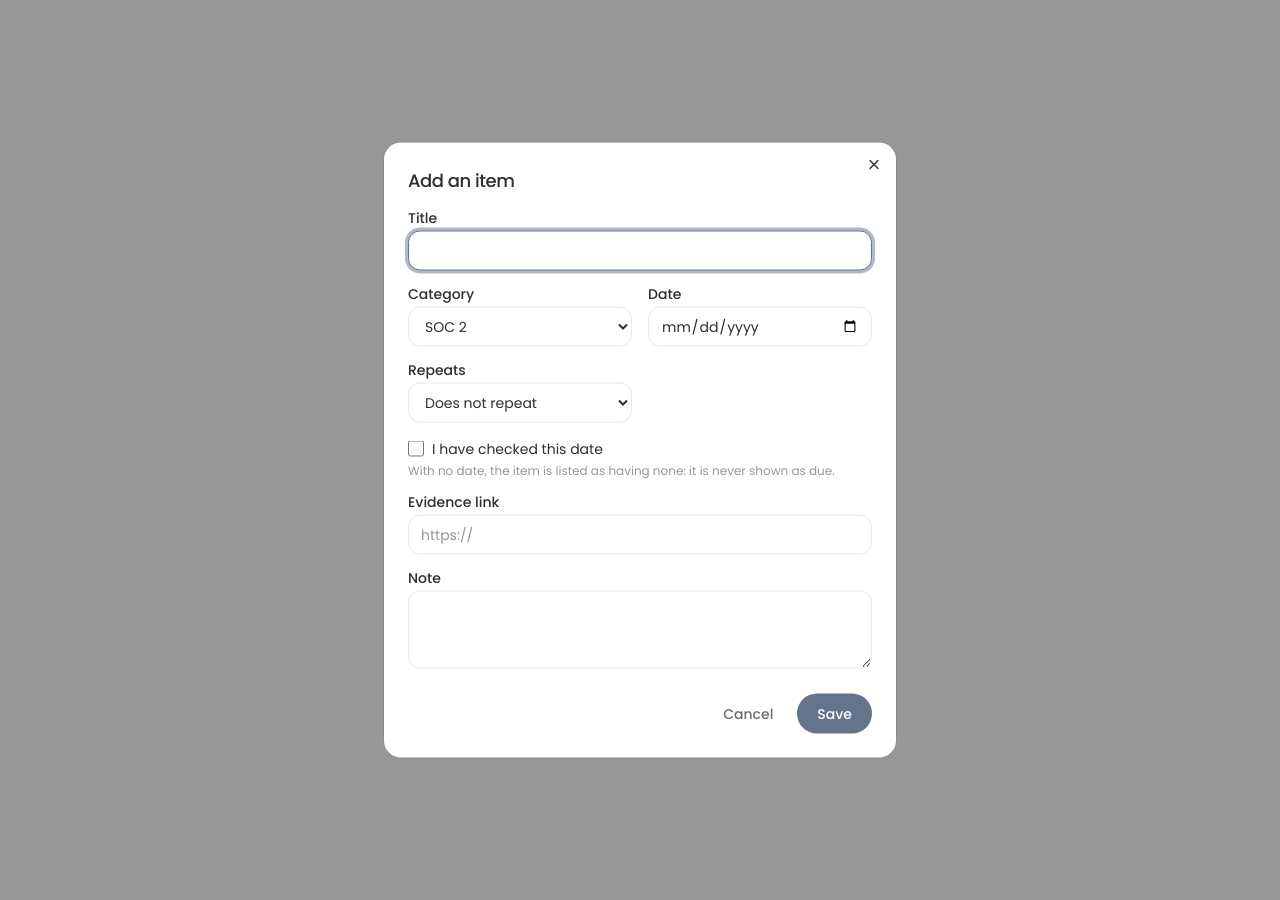
Test: ObligationEditor: adding › a link that is not https is refused before anything is sent
In the field labelled "Title": (640, 250) x1=408 y1=230 x2=872 y2=270, type "x"
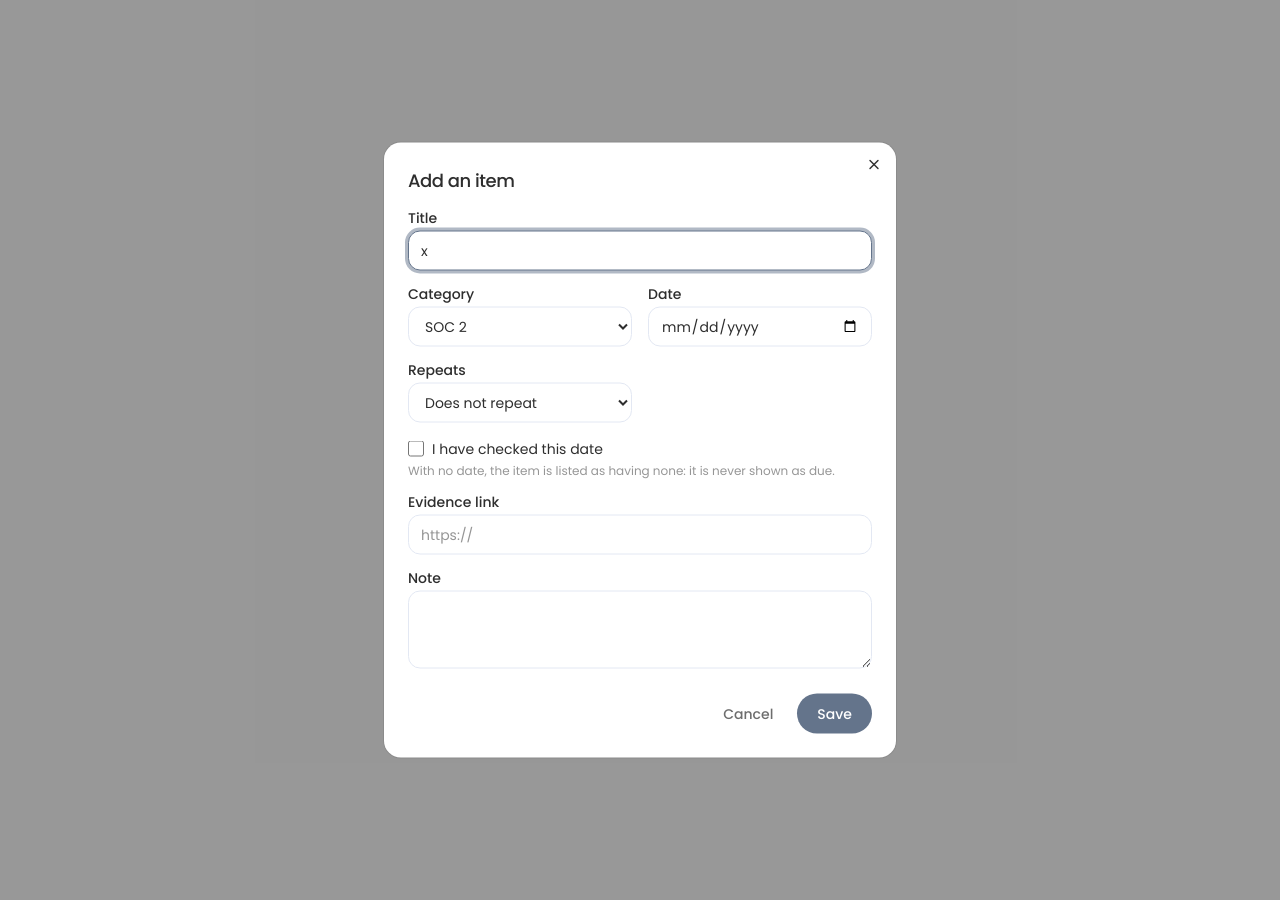
In the field labelled "Evidence link": (640, 534) x1=408 y1=514 x2=872 y2=554, type "javascript:alert(1)"
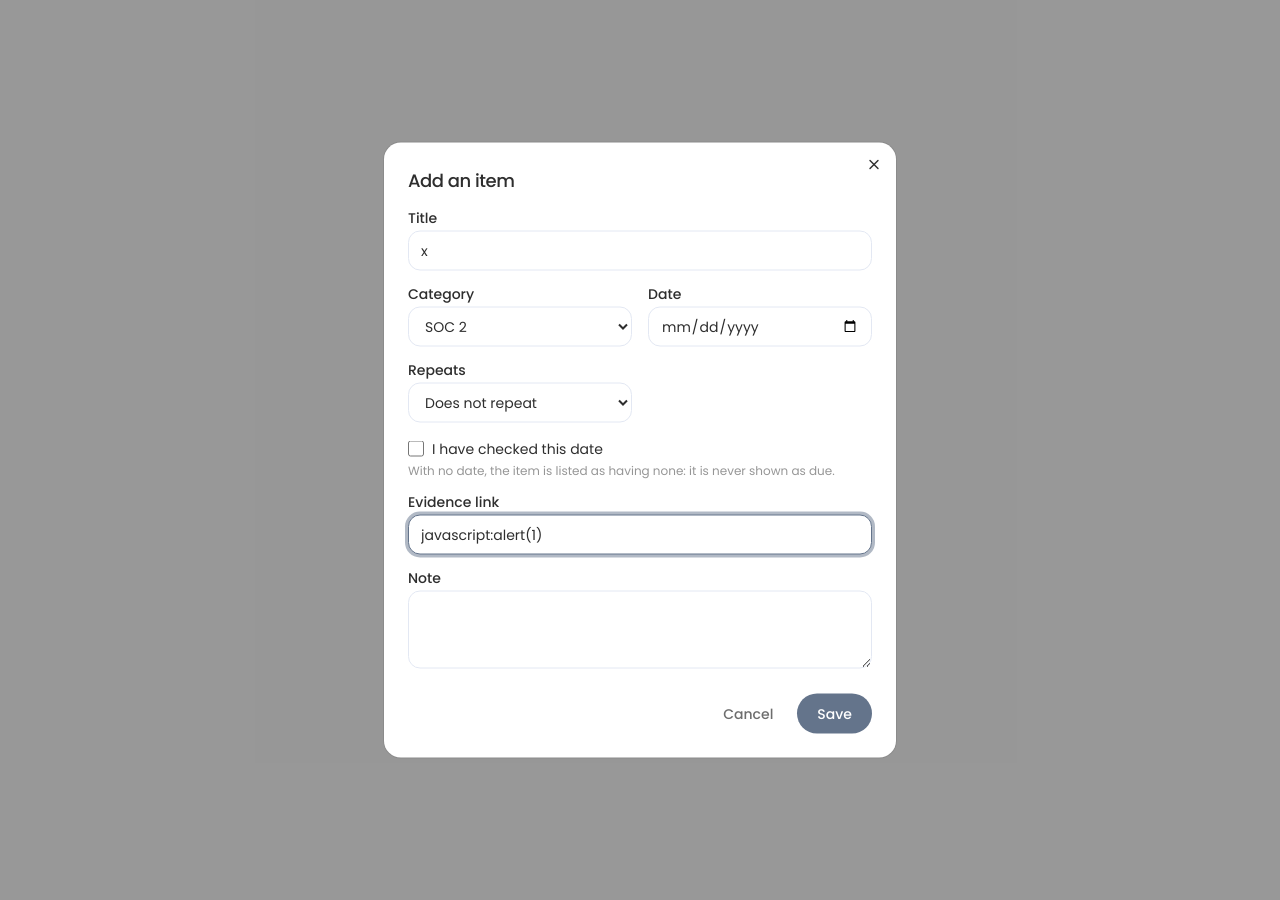
Click the button "Save": (835, 714) x1=797 y1=694 x2=872 y2=734
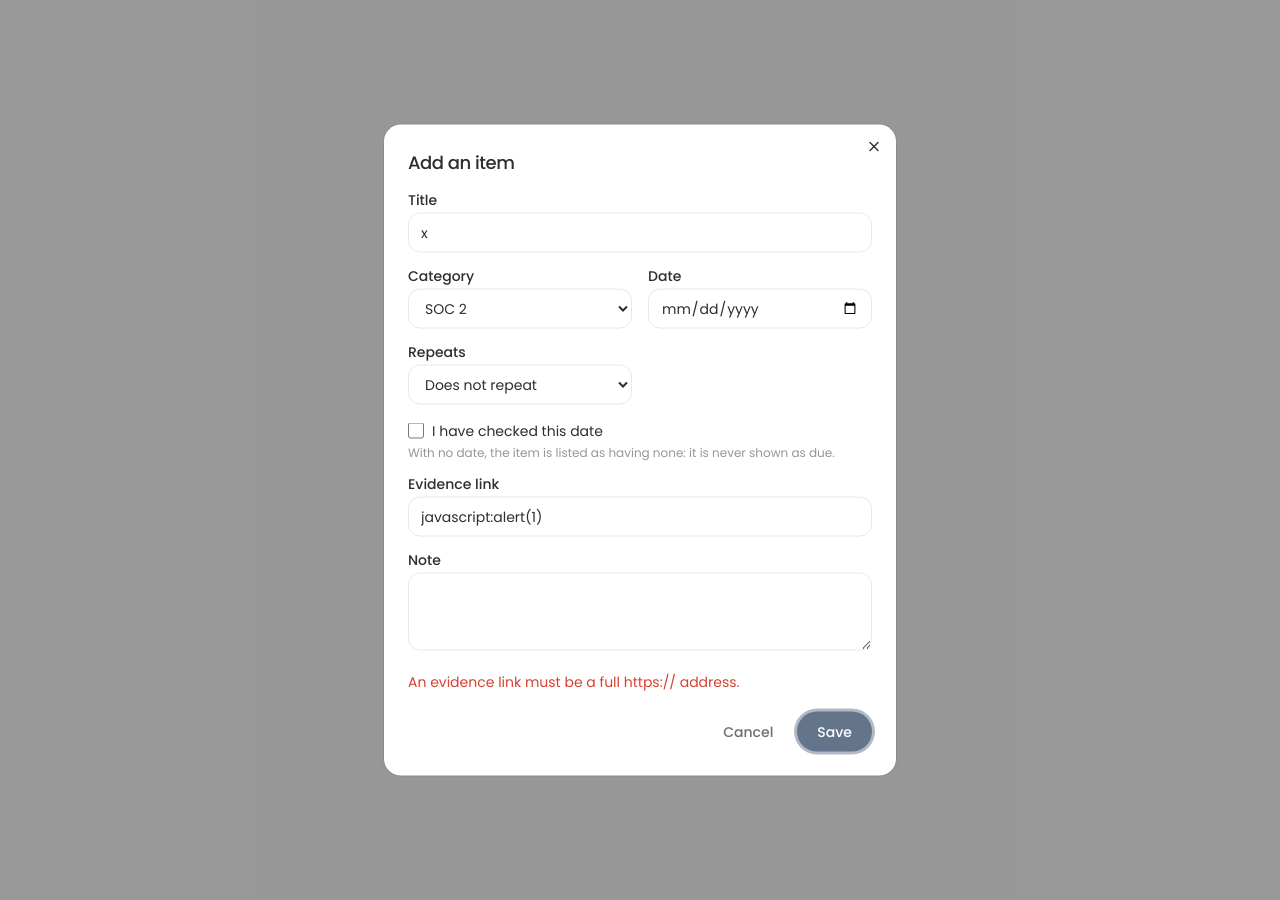
expect the message reads "An evidence link must be a full https:// address.": met, box x1=408 y1=672 x2=740 y2=692
